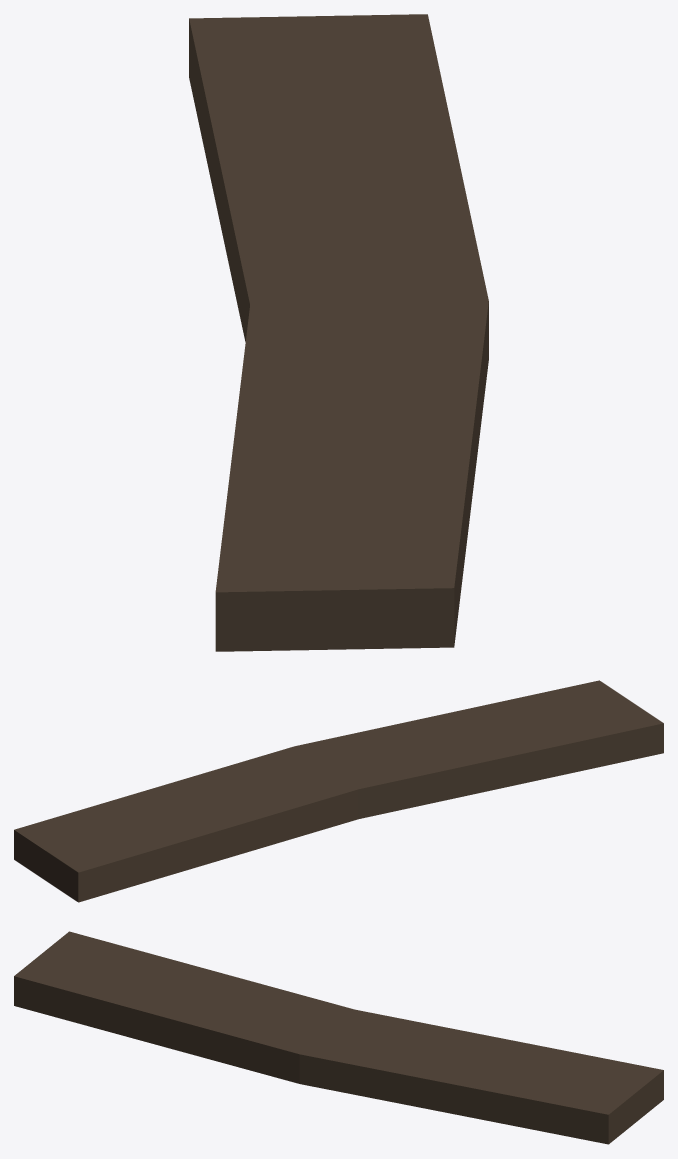
File: Fireplace_modern_Log4.FBX
The picture shows the model from 3 angles, top to bottom: view 1: azimuth 30°, elevation 25°; view 2: azimuth 150°, elevation 25°; view 3: azimuth 270°, elevation 25°; orthographic projection. The views are drawn at different scales.
Parts seen in each view (by area): view 1: Fireplace_modern_Log4; view 2: Fireplace_modern_Log4; view 3: Fireplace_modern_Log4.
Boxes of the visible parts, x1,y1,x2,y2 form: Fireplace_modern_Log4: [189, 14, 488, 651]; Fireplace_modern_Log4: [14, 680, 663, 902]; Fireplace_modern_Log4: [14, 931, 663, 1144].
Size of the model in its own units: 24.58 by 1.86 by 36.82.
1 material, 1 textured.
